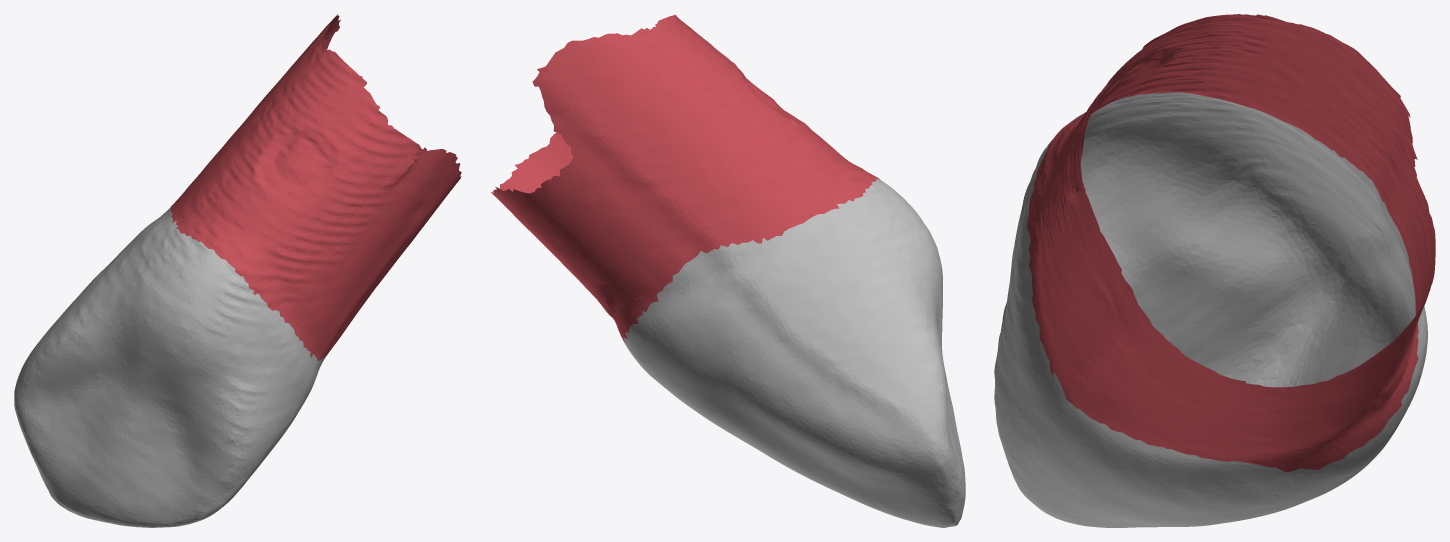
Rendered from Teeth13.fbx.
3 views of the same model, side by side, from view 1: azimuth 30°, elevation 25°; view 2: azimuth 150°, elevation 25°; view 3: azimuth 270°, elevation 25° (orthographic). The views are drawn at different scales.
Parts seen in each view (by area): view 1: node_id37; view 2: node_id37; view 3: node_id37.
Boxes of the visible parts, x1,y1,x2,y2 form: node_id37: (14,14,461,527); node_id37: (491,14,965,527); node_id37: (994,14,1435,527).
Size of the model in its own units: 0.512 by 0.4749 by 0.2792.
